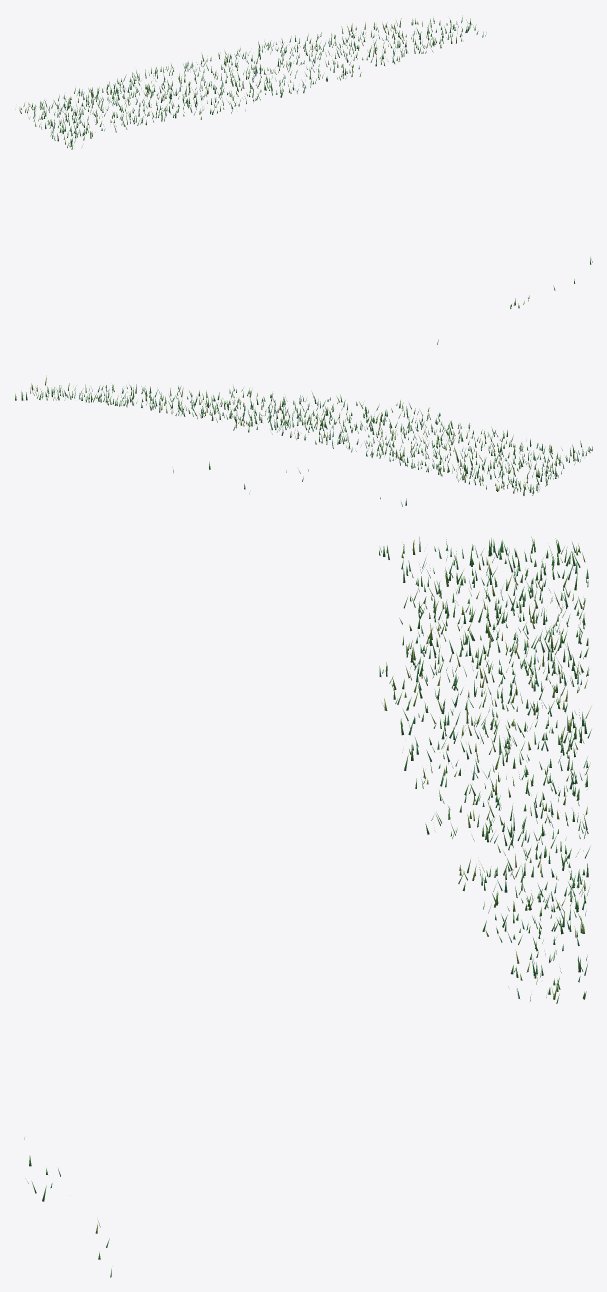
3 renders of one model, top to bottom at view 1: azimuth 30°, elevation 25°; view 2: azimuth 150°, elevation 25°; view 3: azimuth 270°, elevation 25°, orthographic. The views are drawn at different scales.
Parts seen in each view (by area): view 1: gc_51; view 2: gc_51; view 3: gc_51.
Part boxes in pixels (<box>): gc_51: <box>15,15,592,344</box>; gc_51: <box>15,375,592,506</box>; gc_51: <box>24,537,591,1277</box>.
Size of the model in its own units: 18.05 by 7.49 by 10.86.
1 material, 1 textured.
